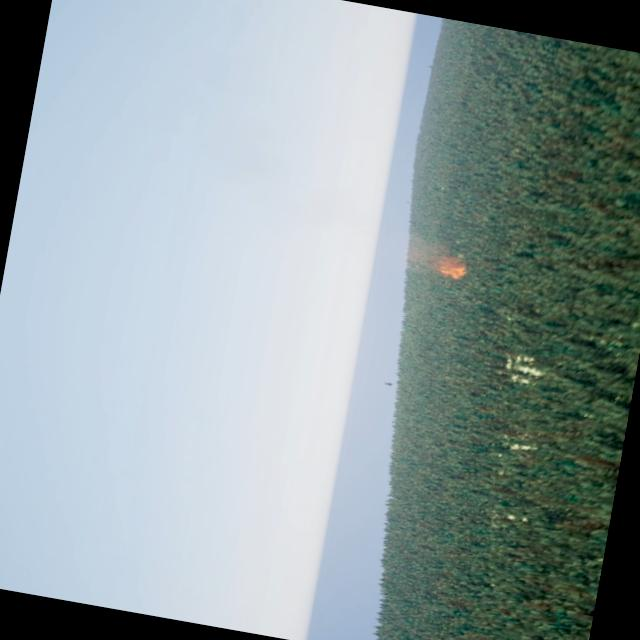fire: (436, 256, 466, 278)
